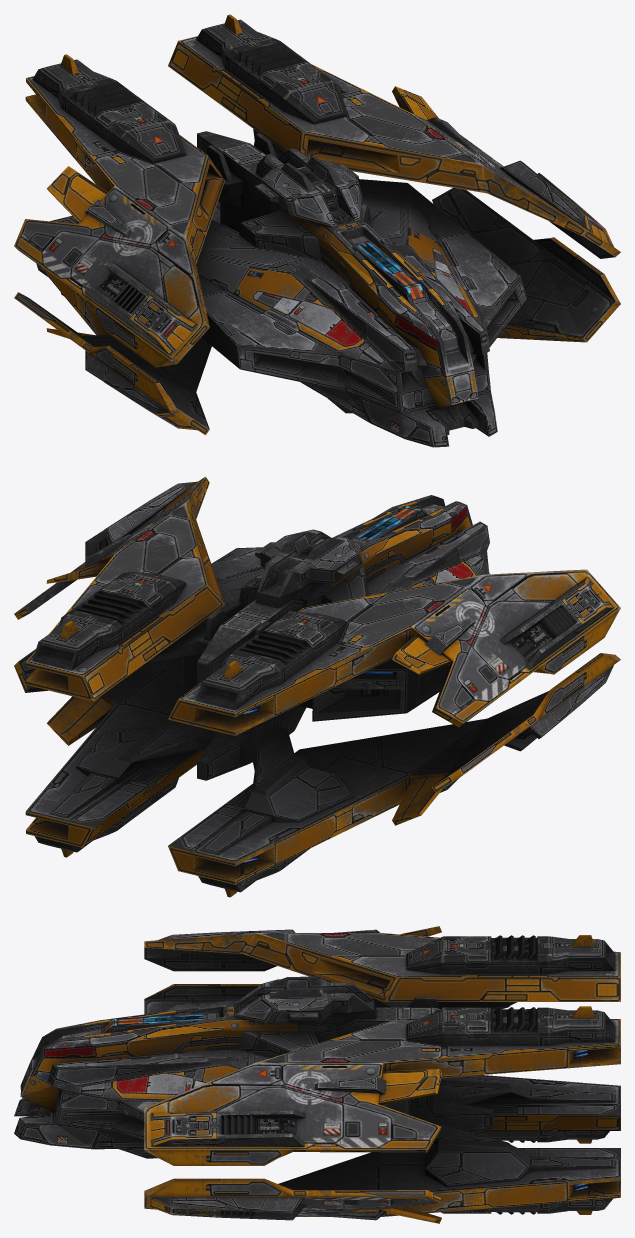
File: Free-Scifi-Fighter.glb
3 views of the same model, one above another, from view 1: azimuth 30°, elevation 25°; view 2: azimuth 150°, elevation 25°; view 3: azimuth 270°, elevation 25° (orthographic). The views are drawn at different scales.
Parts seen in each view (by area): view 1: Free-Scifi-Fighter.obj; view 2: Free-Scifi-Fighter.obj; view 3: Free-Scifi-Fighter.obj.
Part boxes in pixels (bbox=[...]): Free-Scifi-Fighter.obj: bbox=[14, 14, 620, 447]; Free-Scifi-Fighter.obj: bbox=[14, 476, 620, 897]; Free-Scifi-Fighter.obj: bbox=[14, 926, 620, 1223].
Size of the model in its own units: 15.44 by 7.48 by 19.82.
1 material, 1 textured.
